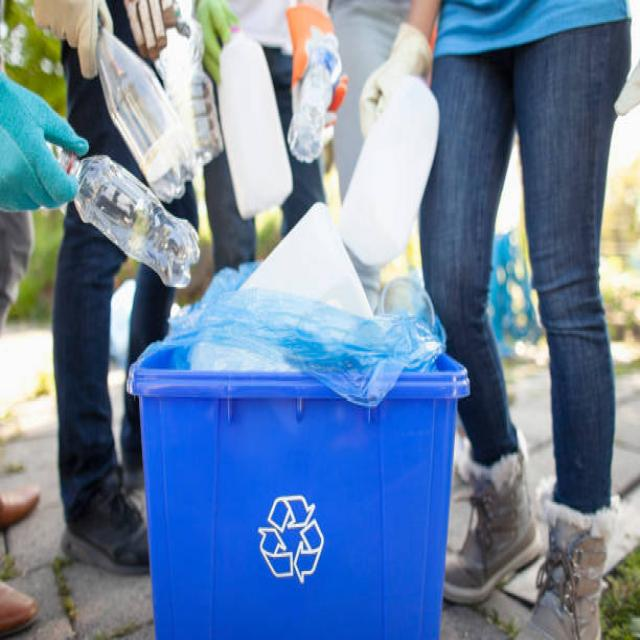plastic: (85, 49, 422, 262)
